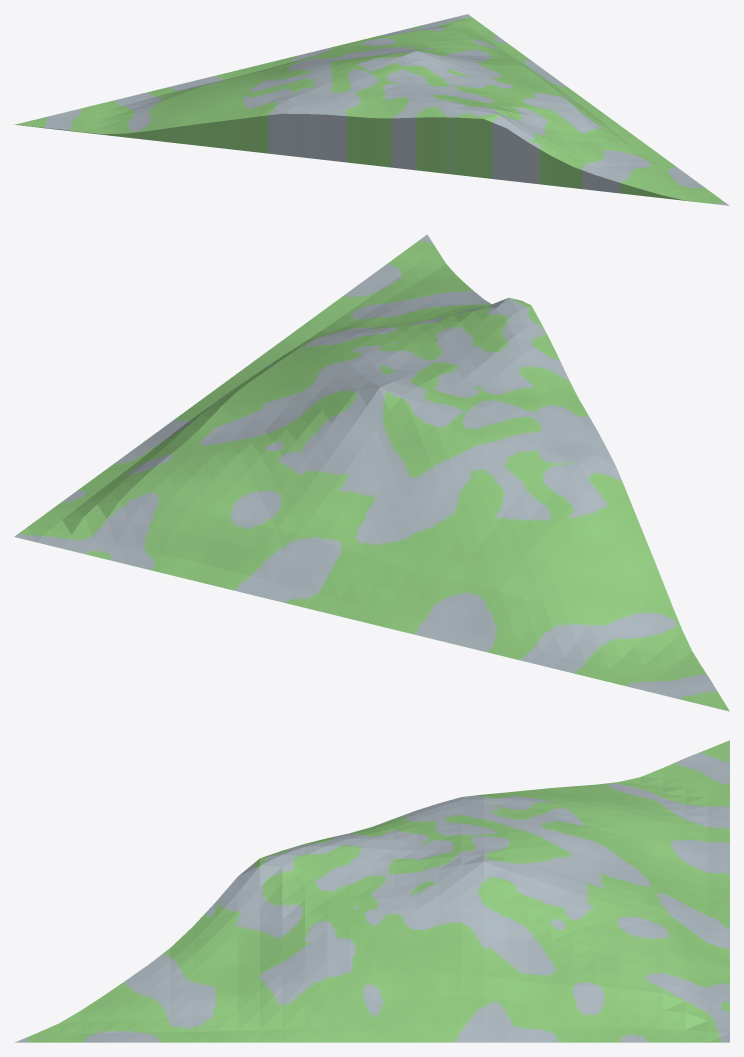
Rendered from Grass_RockyGround_12_SE.obj.
The picture shows the model from 3 angles, top to bottom: view 1: azimuth 30°, elevation 25°; view 2: azimuth 150°, elevation 25°; view 3: azimuth 270°, elevation 25°; orthographic projection. The views are drawn at different scales.
Size of the model in its own units: 10 by 1.34 by 10.
Materials: 1 (1 with a texture image).
